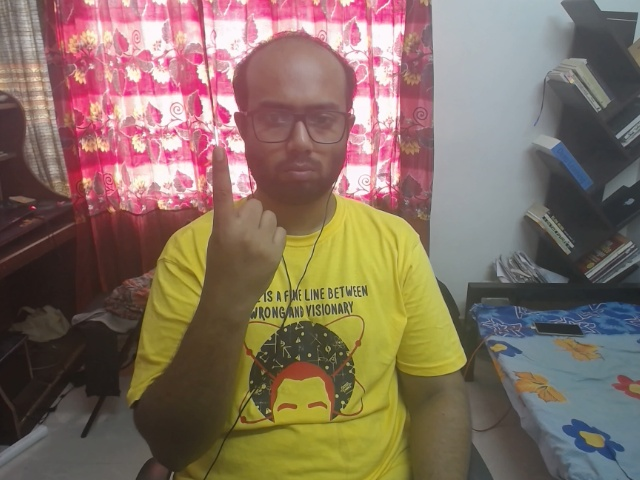one: (167, 130, 309, 333)
